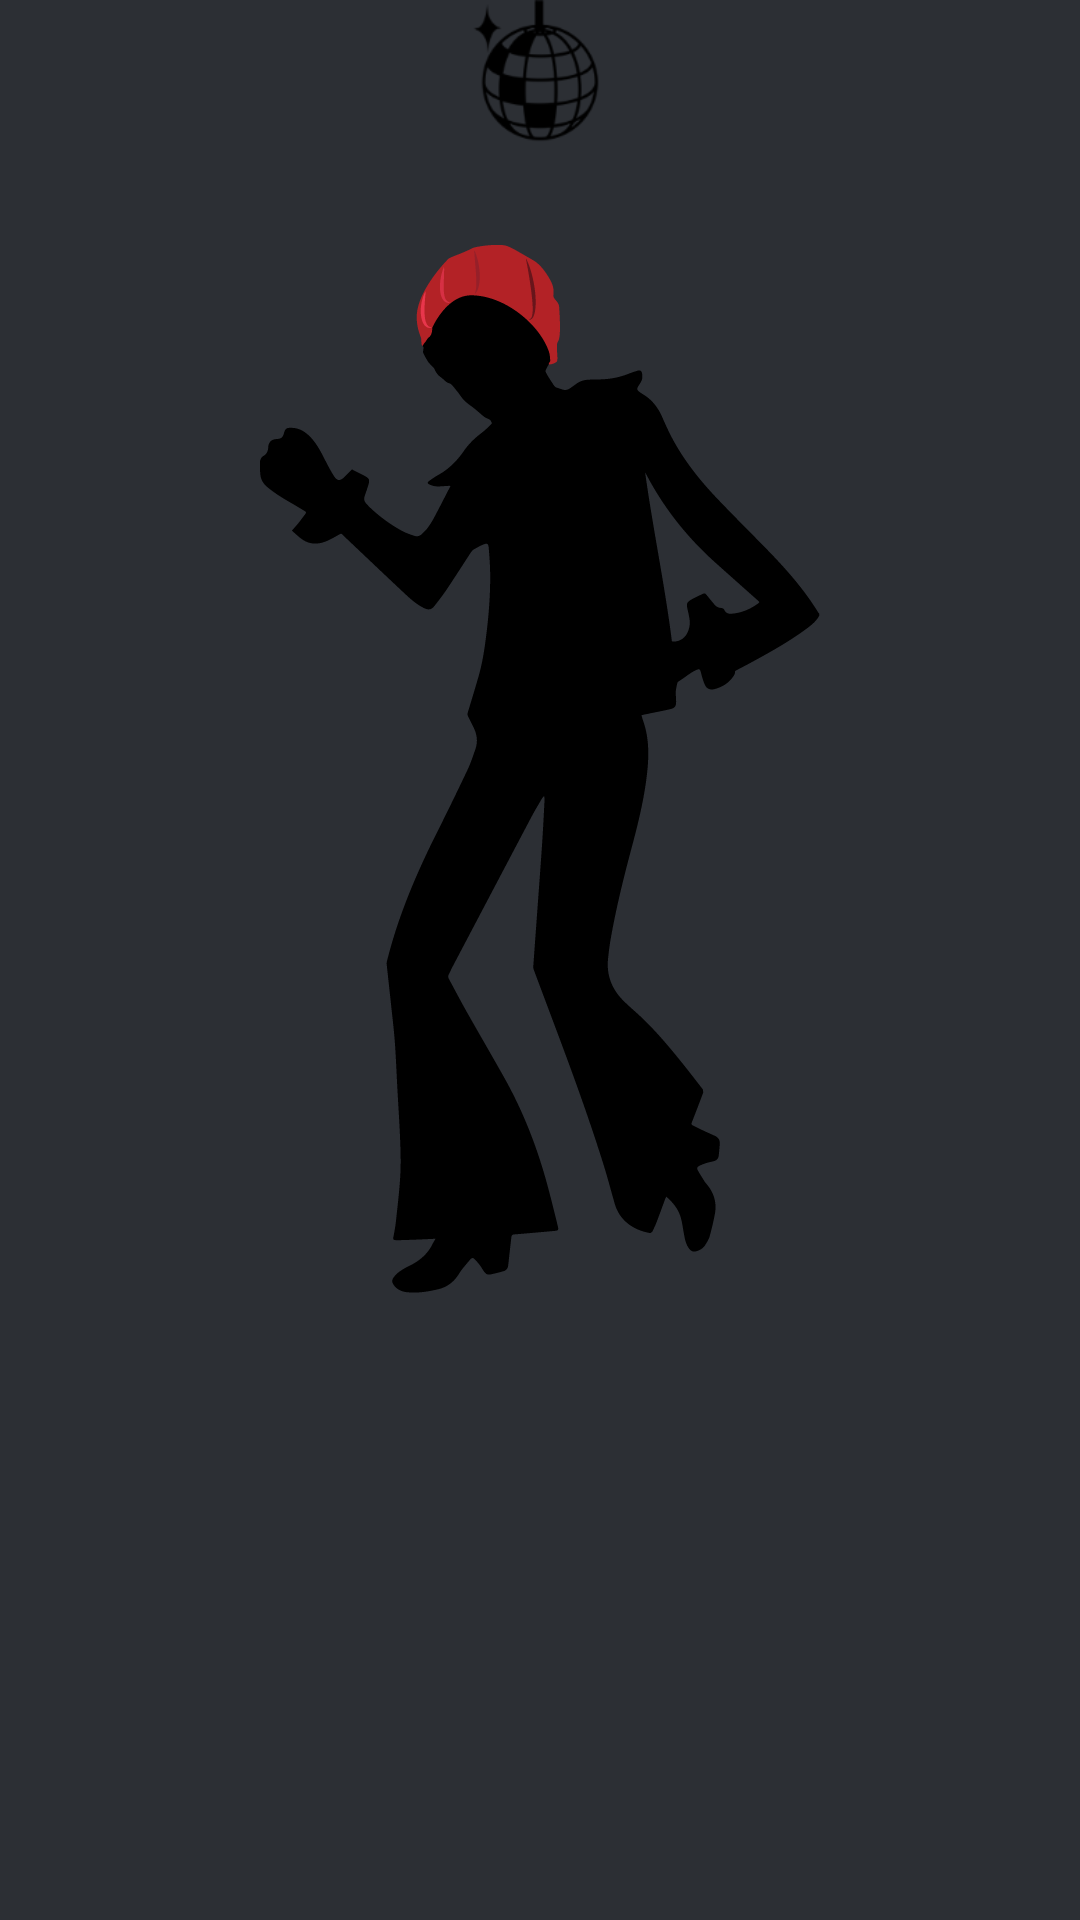

Named icons in this screenshot (1080px×1920px) and their centers, (x=x, y=y):
Image of a disco ball: (x=537, y=70)
